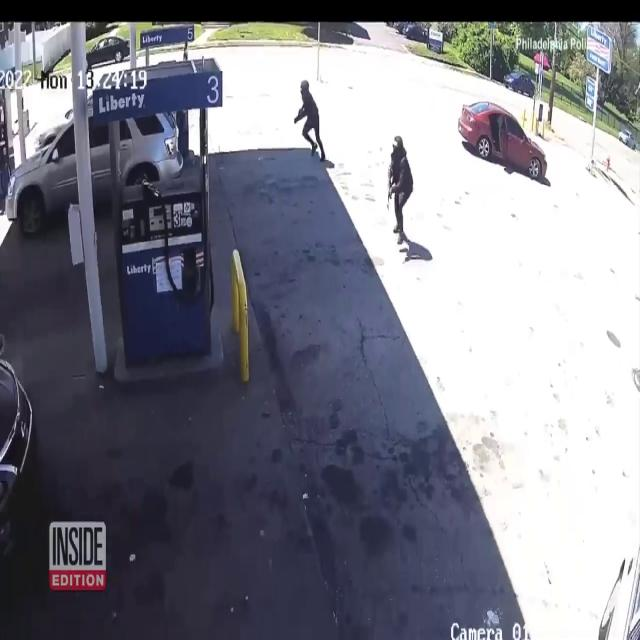penembakan: (378, 129, 418, 261), (292, 78, 330, 168)
